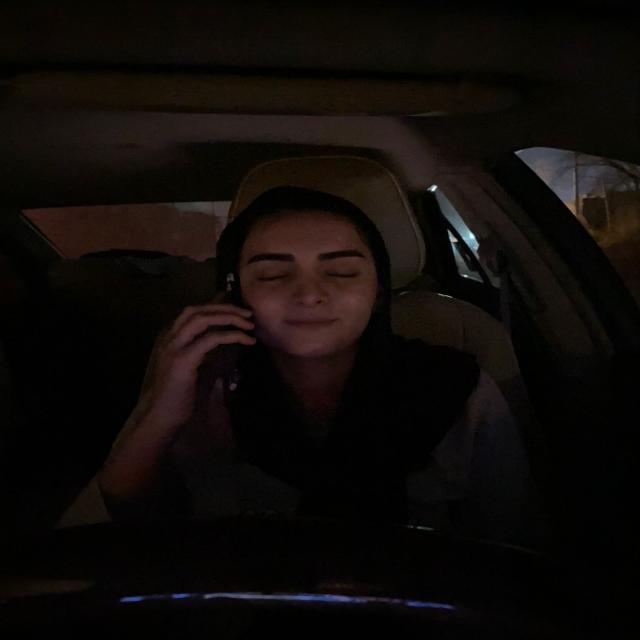drowsy: (231, 196, 392, 366)
